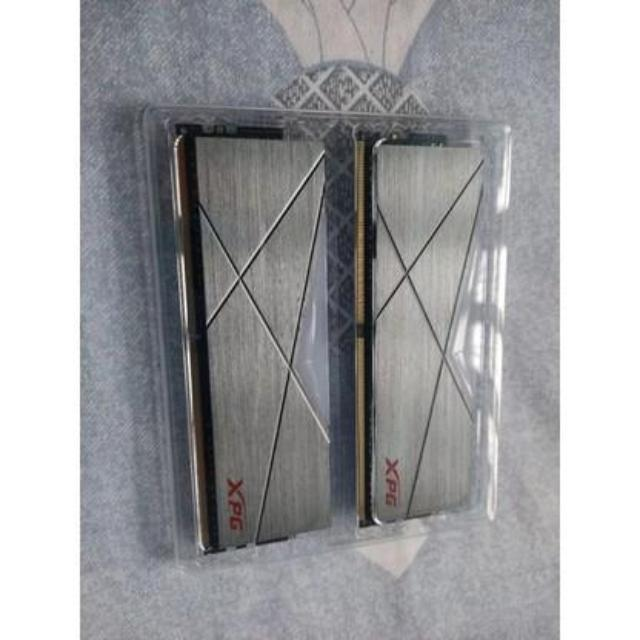RAM: (177, 115, 337, 560), (356, 132, 490, 530)
